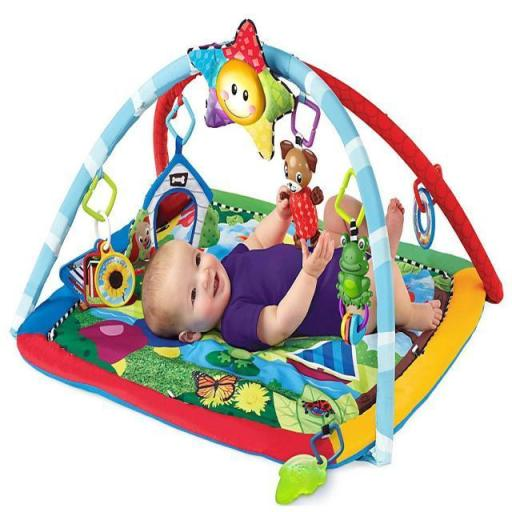baby: (140, 188, 444, 350)
